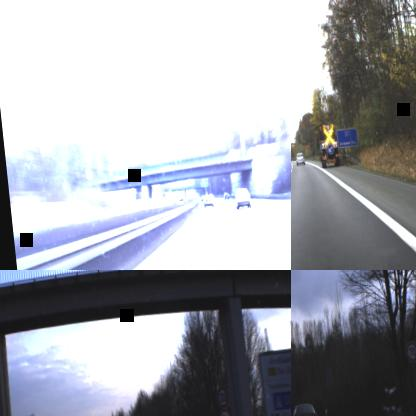keep left: (326, 142, 334, 154)
no overtaking: (216, 407, 232, 416)
speed limit 120: (214, 384, 229, 407)
speed limit 70: (404, 339, 416, 362)
